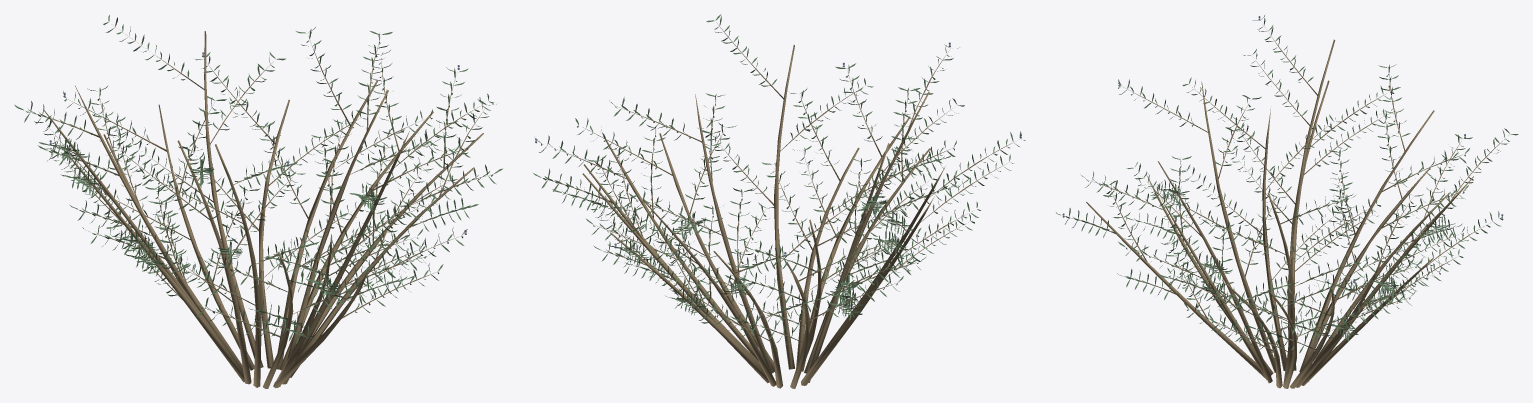
Rendered from Romarin_1_Niveau0.fbx.
3 views of the same model, side by side, from view 1: azimuth 30°, elevation 25°; view 2: azimuth 150°, elevation 25°; view 3: azimuth 270°, elevation 25° (orthographic). The views are drawn at different scales.
Parts seen in each view (by area): view 1: Romarin_1_Niveau0_Jeu; view 2: Romarin_1_Niveau0_Jeu; view 3: Romarin_1_Niveau0_Jeu.
Part boxes in pixels (x1,y1,x2,y2): Romarin_1_Niveau0_Jeu: [14, 15, 502, 388]; Romarin_1_Niveau0_Jeu: [533, 14, 1025, 388]; Romarin_1_Niveau0_Jeu: [1056, 15, 1518, 388].
Bounding box in the file's own units: 112 × 69.41 × 109.
